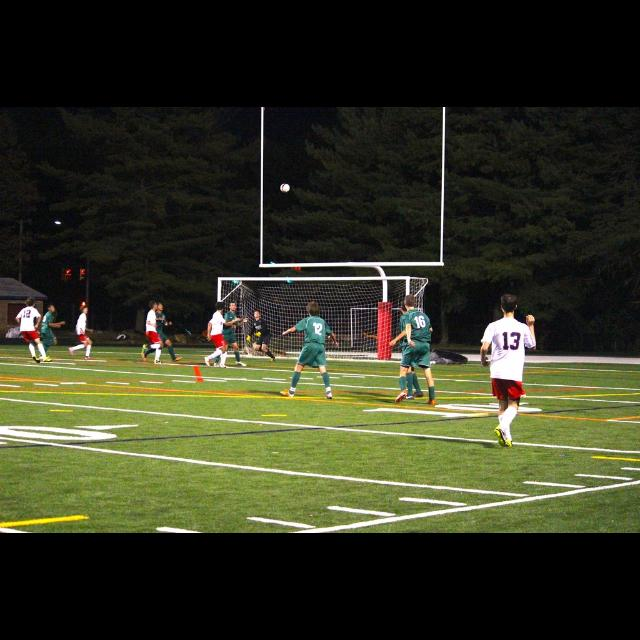Football: (280, 182, 290, 192)
